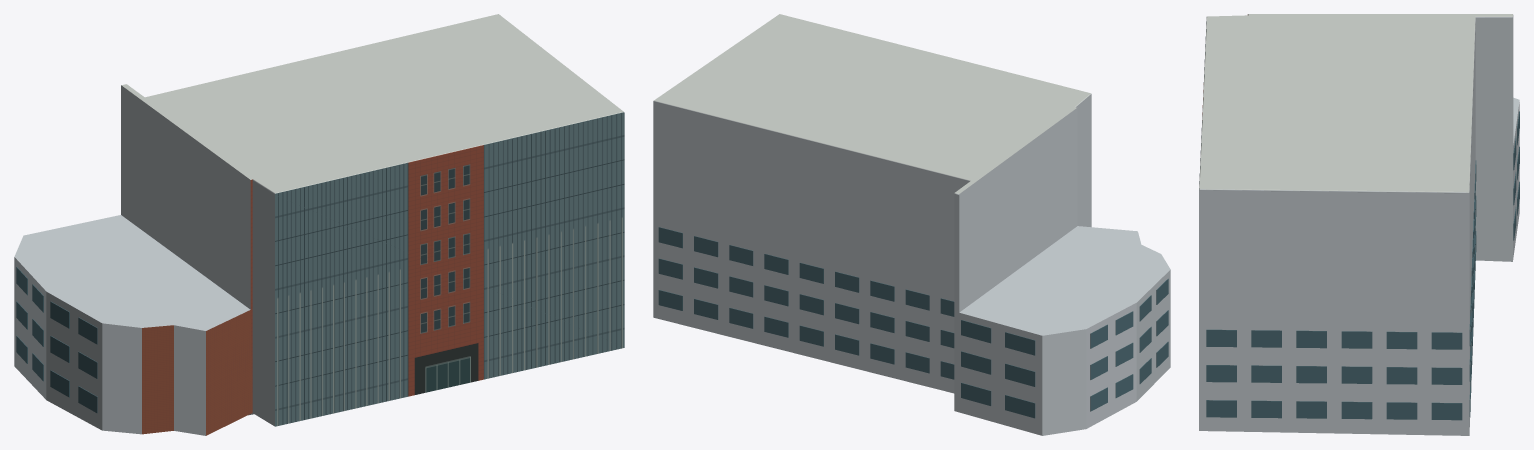
The model's file is intact.glb.
The picture shows the model from 3 angles, left to right: view 1: azimuth 30°, elevation 25°; view 2: azimuth 150°, elevation 25°; view 3: azimuth 270°, elevation 25°; orthographic projection. The views are drawn at different scales.
Visible parts, largest first — view 1: SM_future_Intact_00, SM_future_Intact_01; view 2: SM_future_Intact_00, SM_future_Intact_01; view 3: SM_future_Intact_00, SM_future_Intact_01.
Boxes of the visible parts, box(x1,y1,x2,y2) form: SM_future_Intact_00: box(14, 14, 624, 435); SM_future_Intact_01: box(16, 267, 97, 413); SM_future_Intact_00: box(653, 14, 1170, 435); SM_future_Intact_01: box(658, 227, 1168, 418); SM_future_Intact_00: box(1199, 14, 1519, 435); SM_future_Intact_01: box(1206, 111, 1519, 420).
Size of the model in its own units: 2.2 by 1.02 by 1.21.
Materials: 4 (1 with a texture image).
